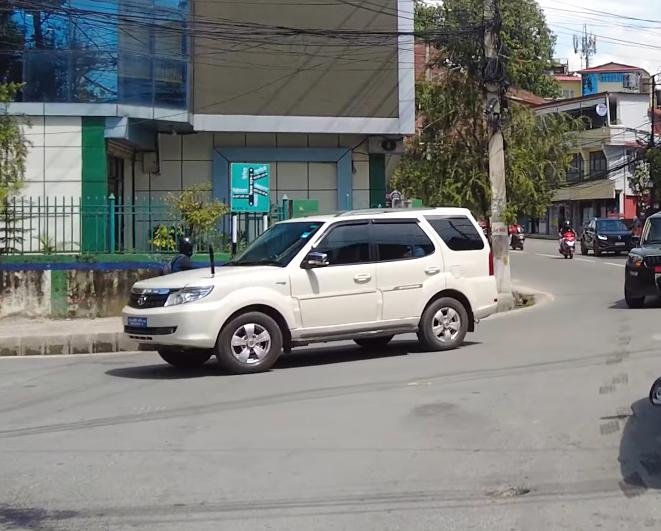SUV: (121, 194, 504, 381), (622, 206, 661, 317)
car: (577, 213, 635, 257)
scooter: (556, 226, 579, 259)
